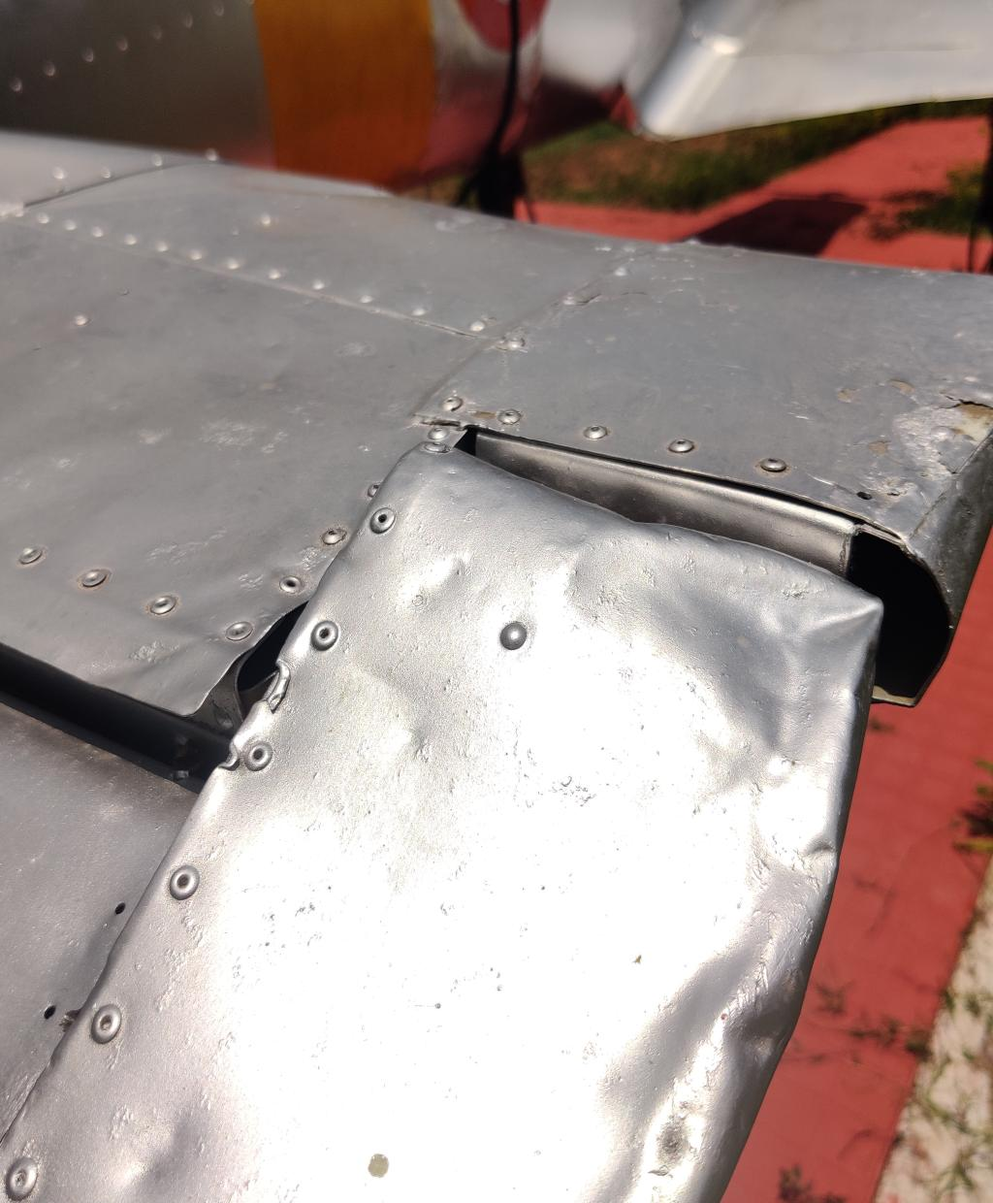dent: (560, 886, 824, 1203), (649, 529, 913, 838), (99, 1047, 235, 1203)
